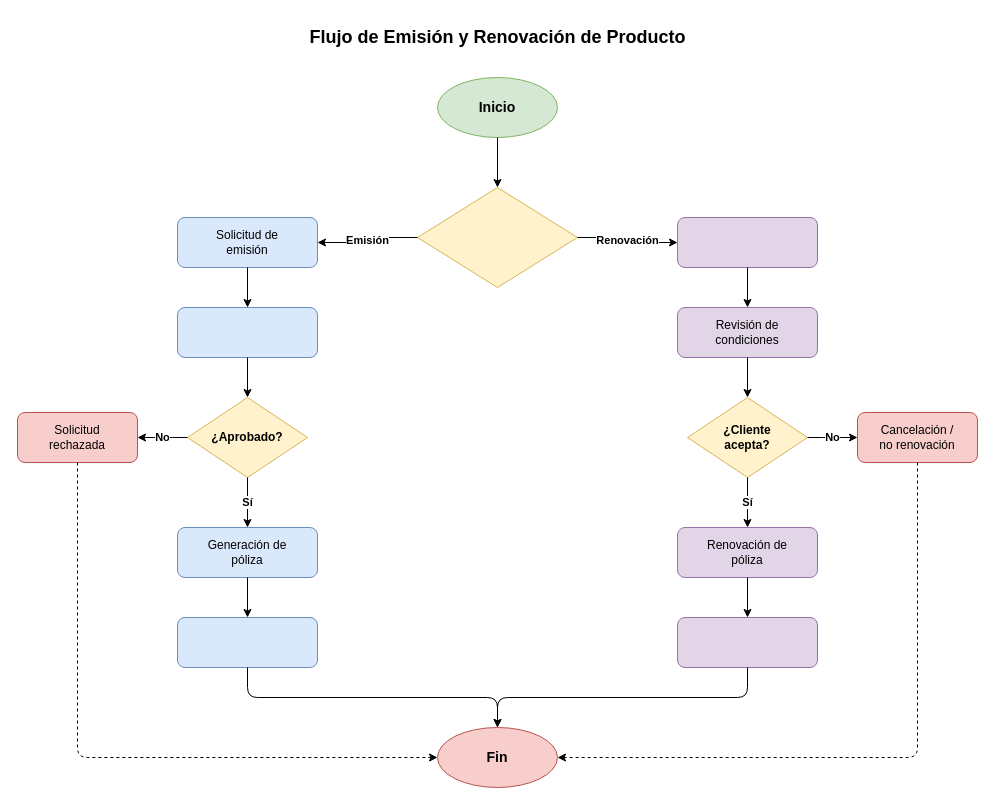
Image size: 995x805. Some labels were removed from this diagram. The shapes that lost their labels are listed below. From the top down, each one's centre as x and y in pixels, then its label:
At (497,237): "¿Tipo de operación?".
At (747,242): "Notificación de vencimiento".
At (247,332): "Cotización y evaluación de riesgo".
At (247,642): "Entrega de póliza al cliente".
At (747,642): "Entrega de póliza renovada al cliente".
